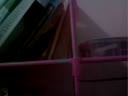window: (0, 1, 125, 96)
